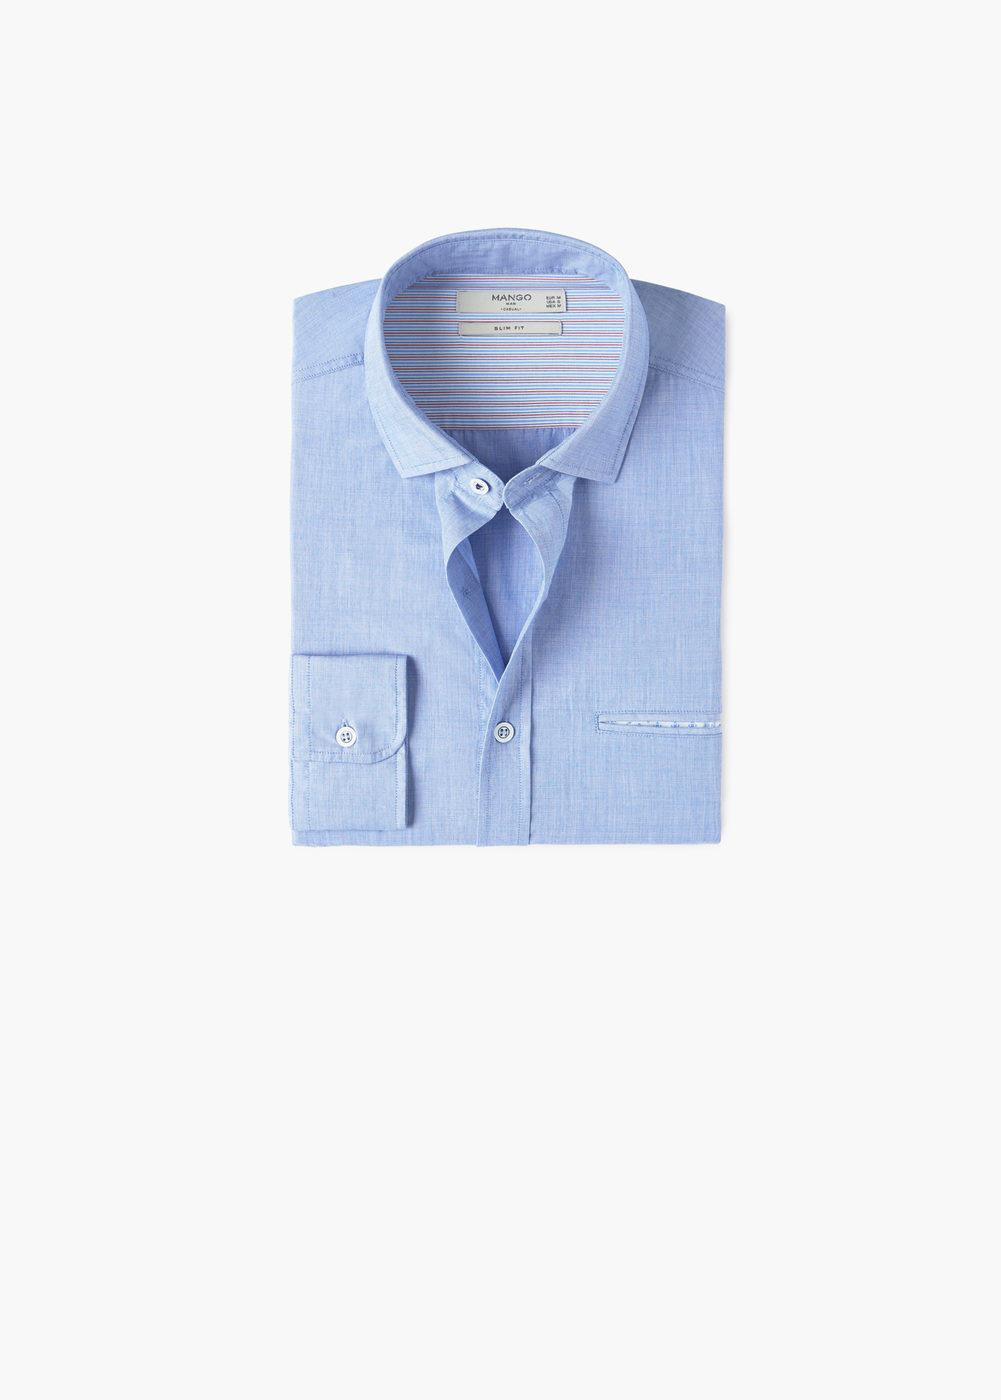teeshirt: (263, 225, 734, 880)
